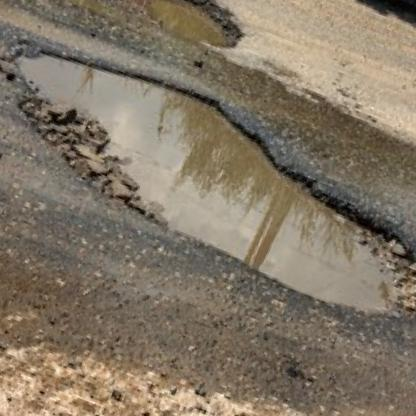pothole: (0, 23, 416, 341), (96, 0, 253, 57)
